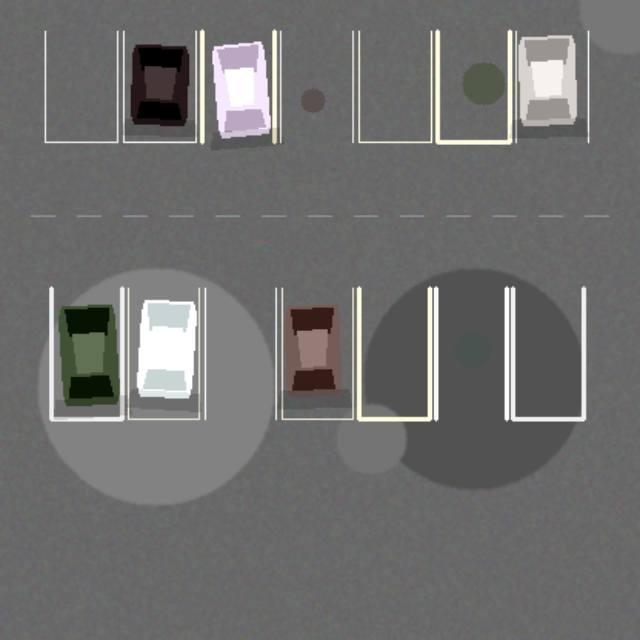space-empty: (358, 288, 429, 418), (435, 288, 506, 418), (512, 288, 583, 418), (205, 288, 275, 418), (358, 31, 431, 142), (45, 31, 117, 142), (280, 31, 352, 142), (437, 31, 509, 142)
space-occupied: (51, 288, 122, 418), (128, 288, 198, 418), (282, 288, 352, 418), (515, 31, 588, 142), (123, 31, 195, 142), (202, 31, 274, 142)
